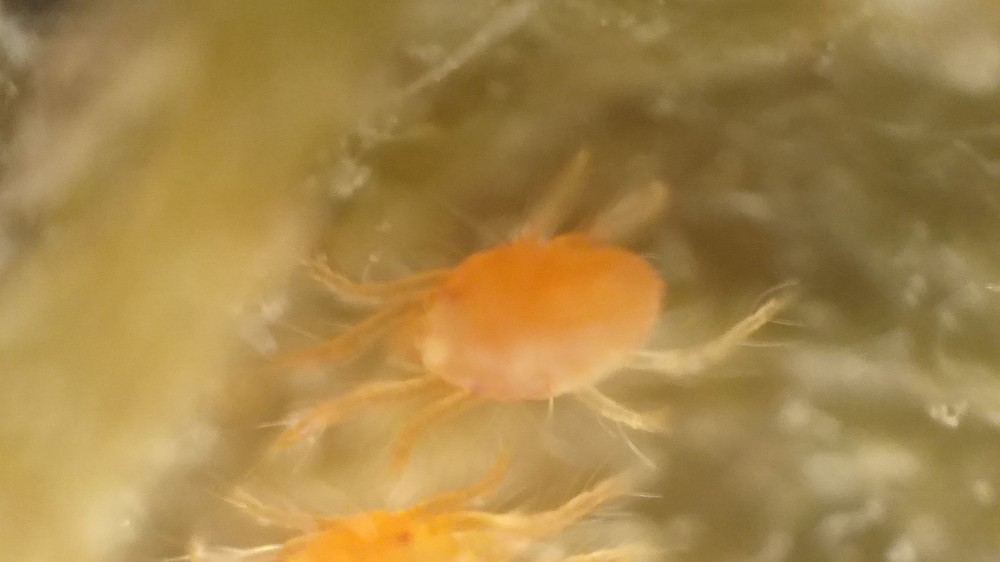Aracnido Rojo: (224, 148, 834, 493)
